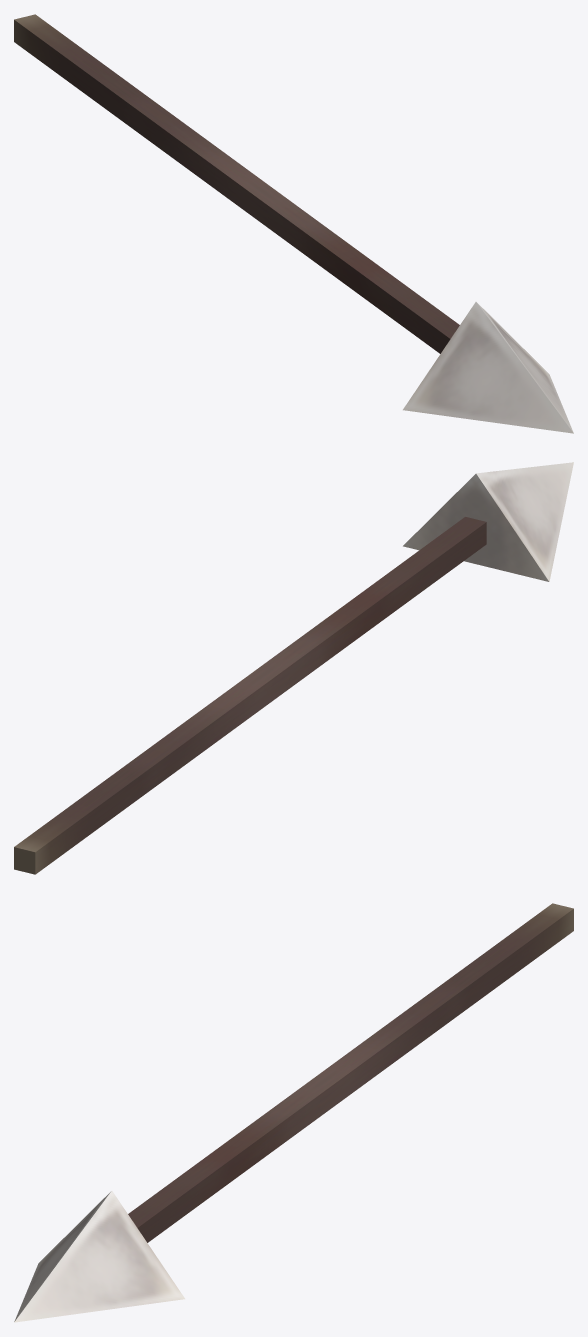
File: Wood_Arrow.fbx
3 views of the same model, one above another, from view 1: azimuth 30°, elevation 25°; view 2: azimuth 150°, elevation 25°; view 3: azimuth 330°, elevation 25° (orthographic).
Parts seen in each view (by area): view 1: Wood_Arrow; view 2: Wood_Arrow; view 3: Wood_Arrow.
Boxes of the visible parts, x1,y1,x2,y2 form: Wood_Arrow: (14, 14, 573, 433); Wood_Arrow: (14, 462, 573, 874); Wood_Arrow: (14, 903, 573, 1322).
Bounding box in the file's own units: 4.24 × 2.51 × 27.48.
